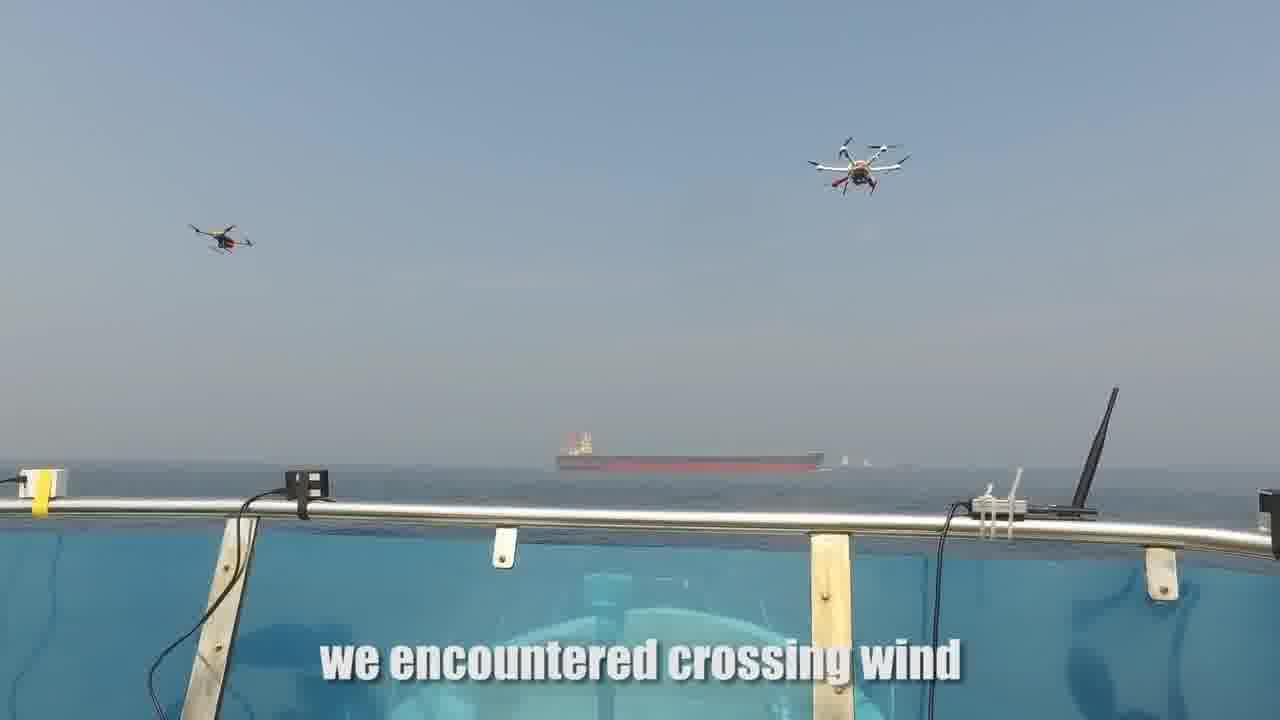drone: (790, 137, 924, 208), (180, 210, 277, 263)
